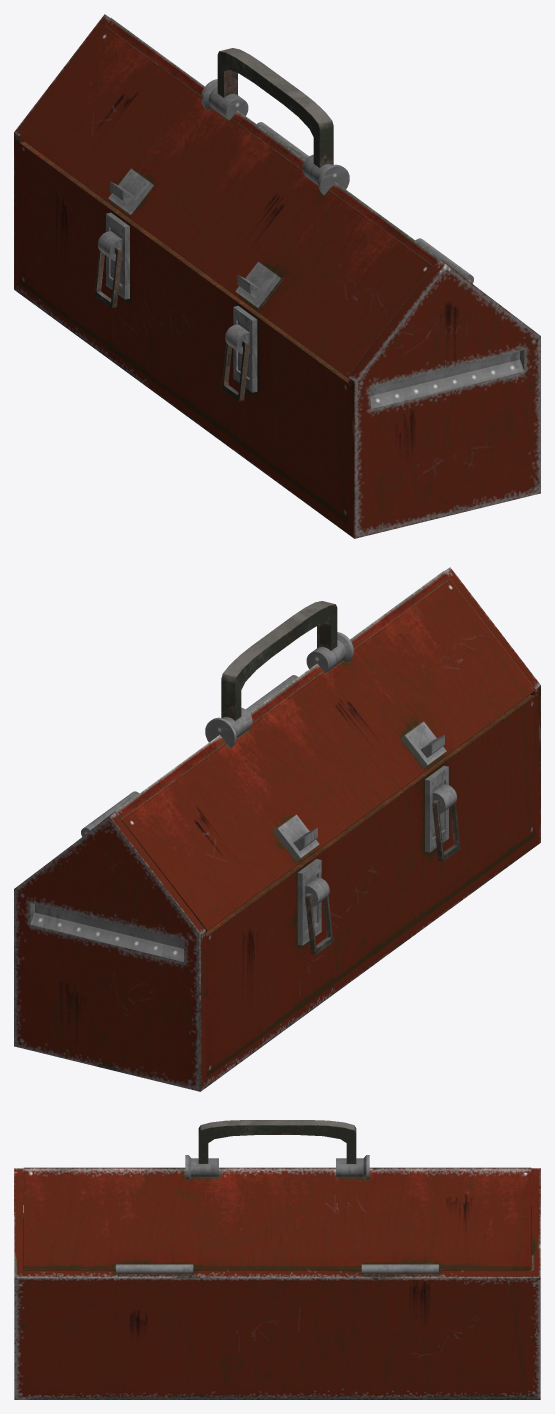
Rendered from jagged_toolbox__game_ready.glb.
The picture shows the model from 3 angles, top to bottom: view 1: azimuth 30°, elevation 25°; view 2: azimuth 150°, elevation 25°; view 3: azimuth 270°, elevation 25°; orthographic projection. The views are drawn at different scales.
Parts seen in each view (by area): view 1: toolbox; view 2: toolbox; view 3: toolbox.
Boxes of the visible parts, left/top/right/bottom form: toolbox: left=14, top=14, right=540, bottom=538; toolbox: left=14, top=567, right=540, bottom=1091; toolbox: left=14, top=1120, right=540, bottom=1399.
Bounding box in the file's own units: 83.12 × 122 × 241.
Materials: 3 (3 with a texture image).
